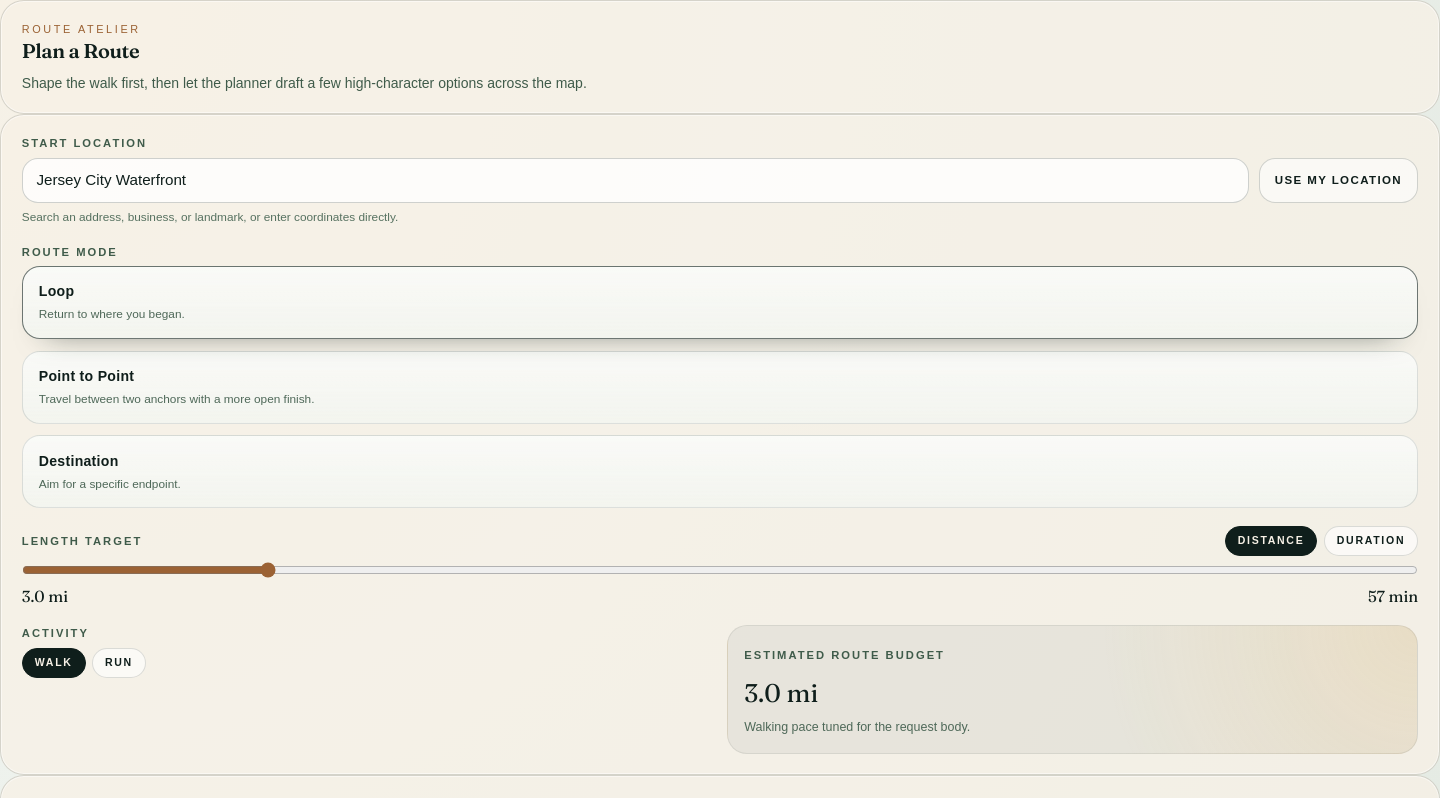
Test: PlanPanel › uses browser geolocation to populate the start field
The image size is (1440, 798).
Click the button "Use My Location".
click(1338, 180)  # box 1259,158 -> 1418,203
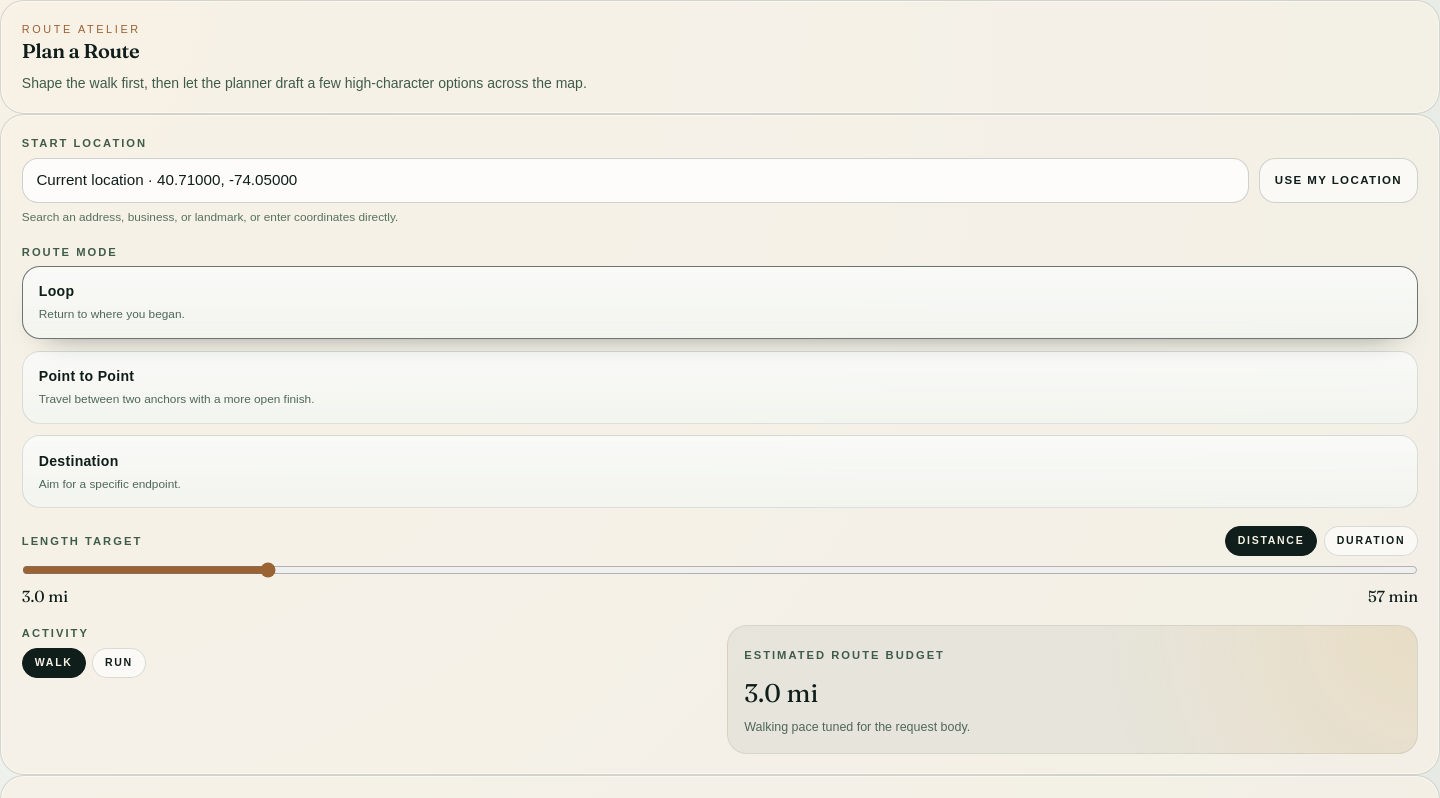
Expected: the field labelled "Start Location" holds "Current location · 40.71000, -74.05000", 22,158 -> 1249,203
